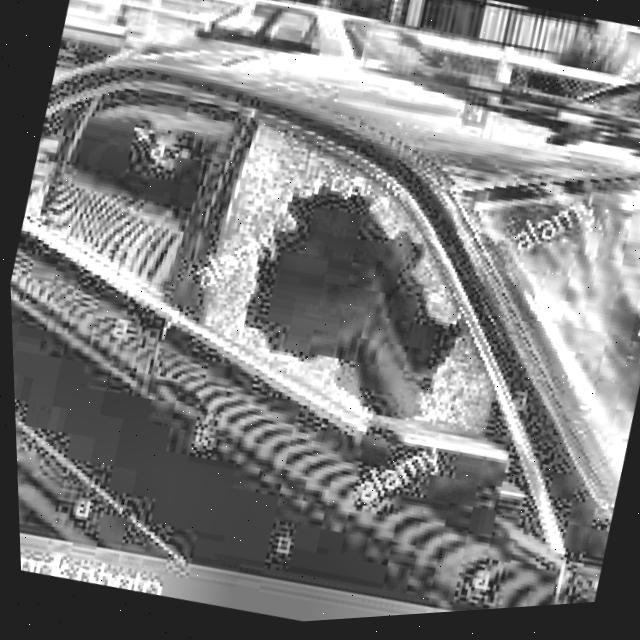glass_shatter: (218, 161, 492, 426)
